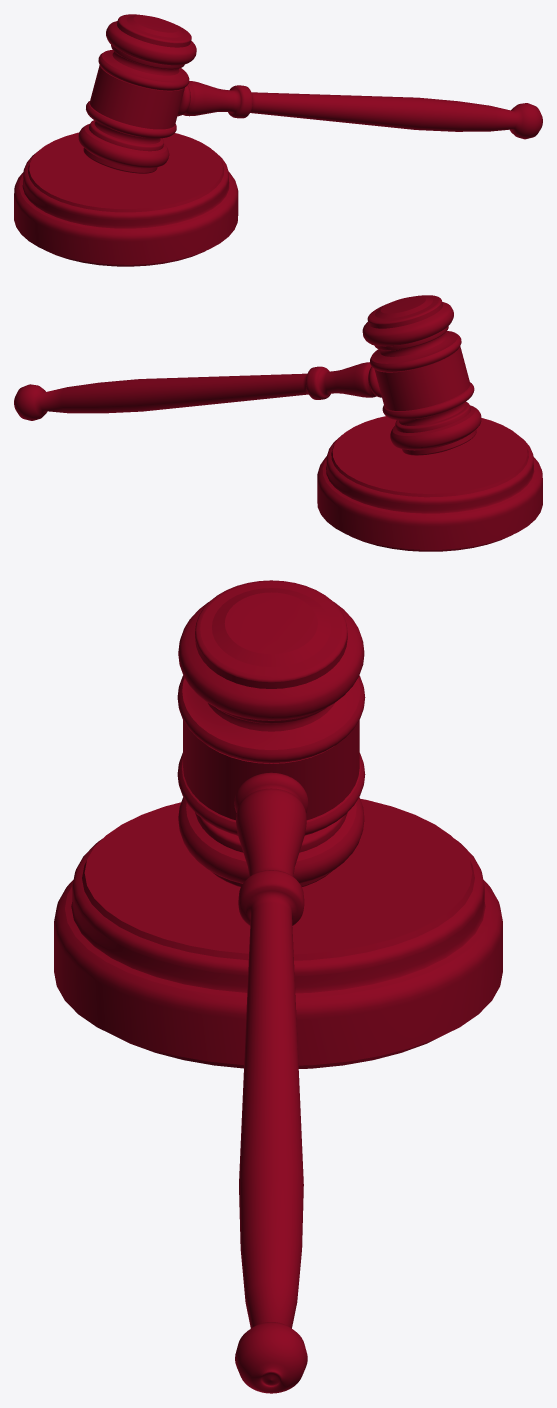
Rendered from leyes.glb.
3 views of the same model, one above another, from view 1: azimuth 30°, elevation 25°; view 2: azimuth 150°, elevation 25°; view 3: azimuth 270°, elevation 25° (orthographic). The views are drawn at different scales.
Parts seen in each view (by area): view 1: node_id7, node_id16, node_id12, node_id20; view 2: node_id7, node_id16, node_id12, node_id20; view 3: node_id7, node_id12, node_id16, node_id20.
Part boxes in pixels (box(x1,y1,x2,y2)): node_id7: box(14, 132, 238, 266); node_id16: box(177, 81, 542, 139); node_id12: box(78, 14, 196, 173); node_id20: box(90, 65, 184, 129); node_id7: box(317, 416, 542, 551); node_id16: box(14, 362, 381, 420); node_id12: box(362, 295, 481, 455); node_id20: box(374, 346, 470, 410); node_id7: box(54, 799, 502, 1068); node_id12: box(177, 580, 365, 886); node_id16: box(234, 772, 308, 1393); node_id20: box(183, 720, 359, 820).
Size of the model in its own units: 0.5079 by 0.1995 by 0.1939.
Materials: 4 (4 with a texture image).
